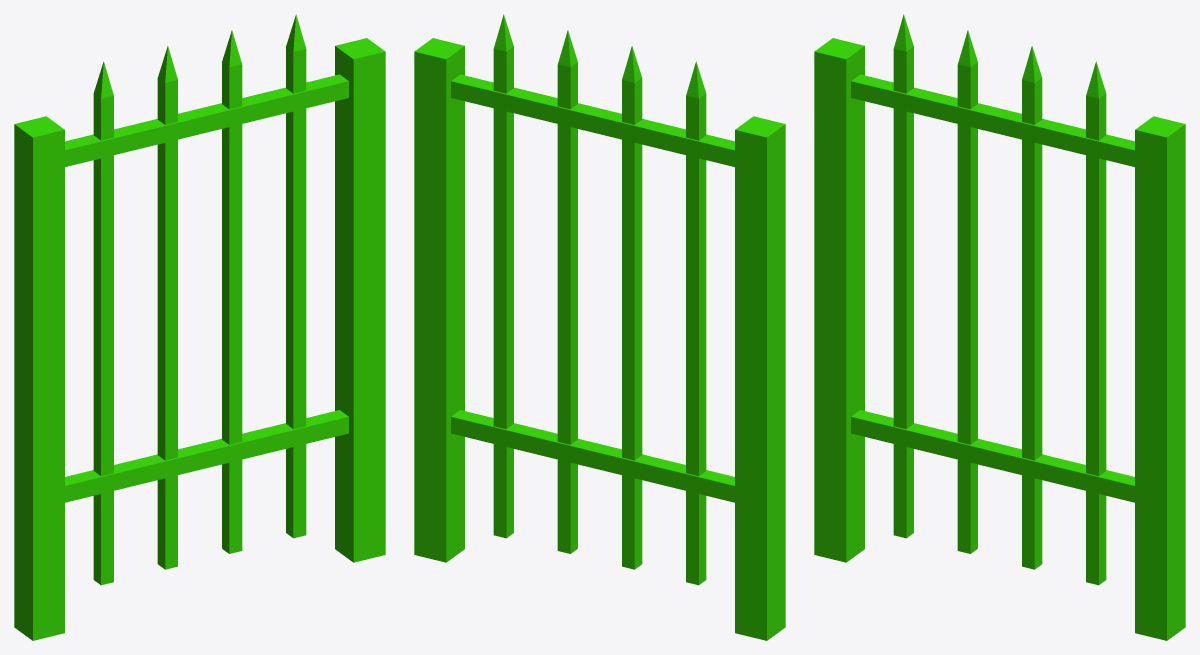
Rendered from fence2_01.fbx.
The picture shows the model from 3 angles, left to right: view 1: azimuth 30°, elevation 25°; view 2: azimuth 150°, elevation 25°; view 3: azimuth 330°, elevation 25°; orthographic projection.
Parts seen in each view (by area): view 1: fence2_01; view 2: fence2_01; view 3: fence2_01.
Part boxes in pixels (x1,y1,x2,y2): fence2_01: (14,14,385,640); fence2_01: (414,14,785,640); fence2_01: (814,14,1185,640).
Size of the model in its own units: 110 by 165 by 10.
